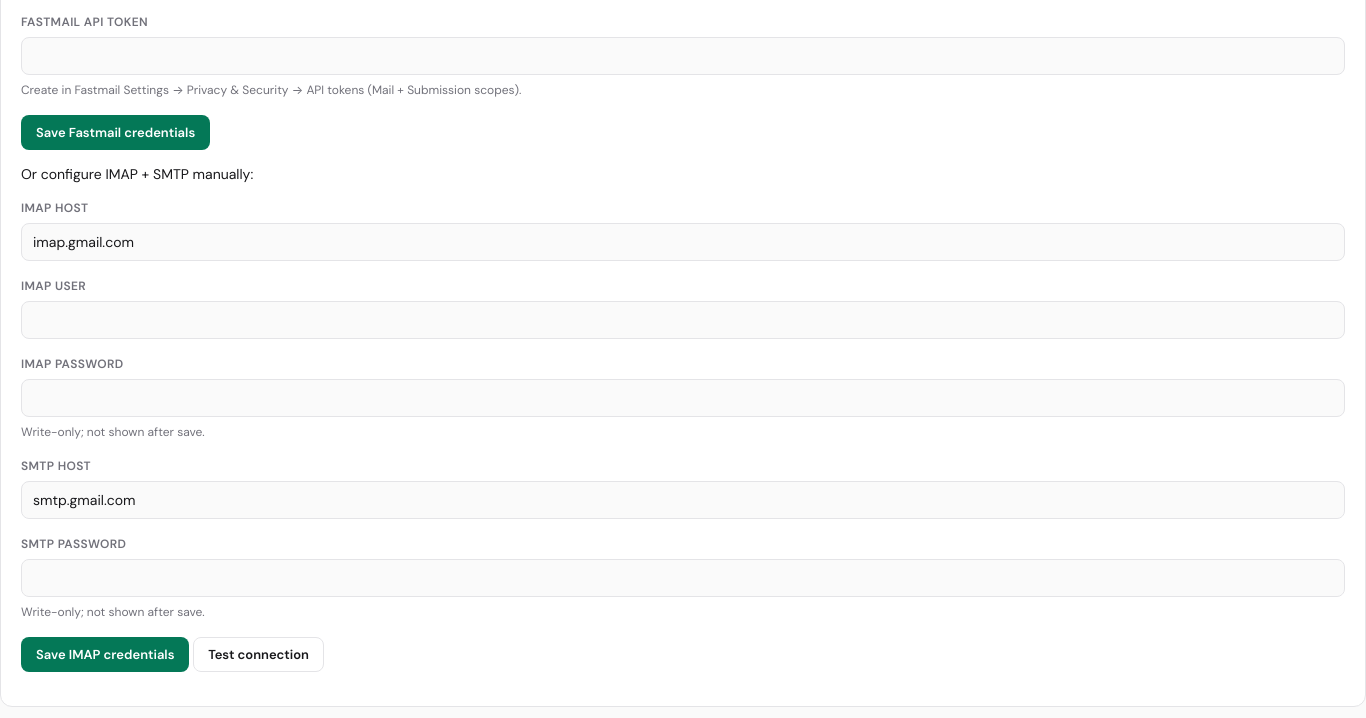
SettingsInboxCard › shows an error when saving IMAP fails
The width and height of the screenshot is (1366, 718).
(page scrolled)
Click the button "Save IMAP credentials".
click(105, 654)  # box x1=21 y1=636 x2=190 y2=672
(page scrolled)
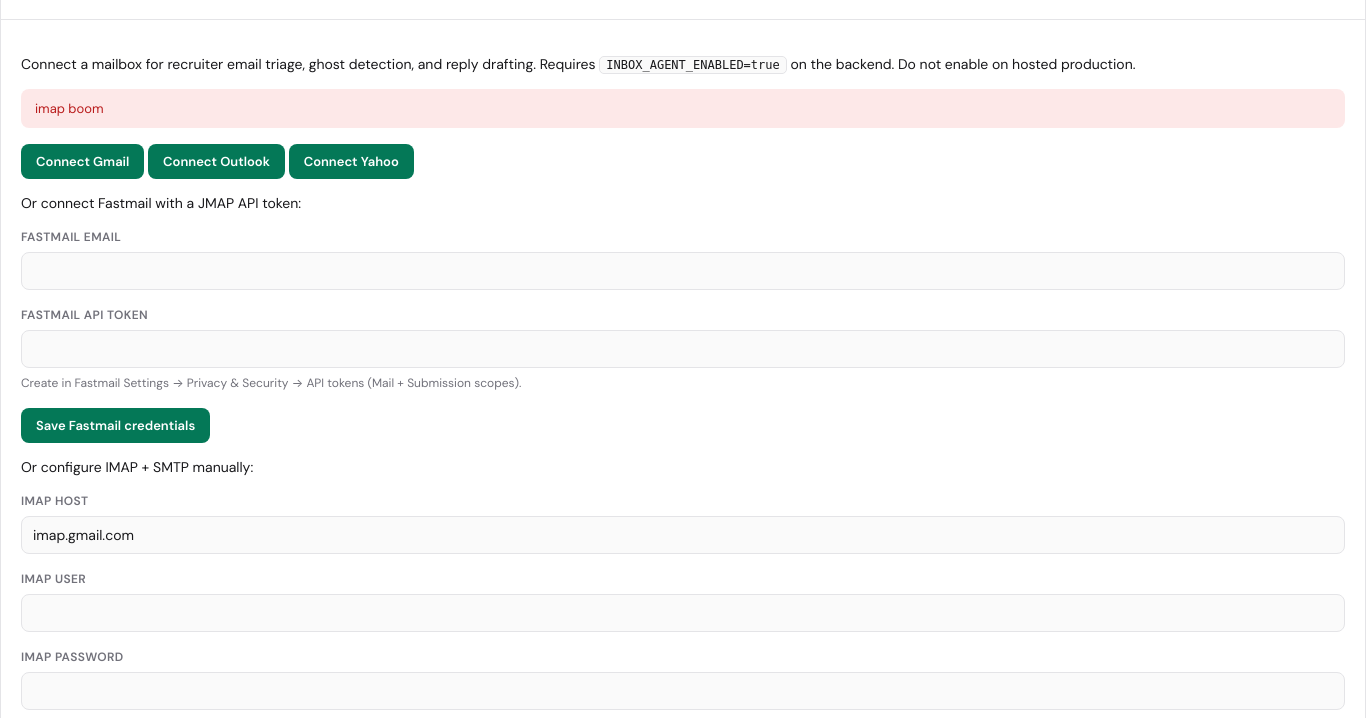
Result: the text "imap boom" is shown at x1=21 y1=88 x2=1345 y2=128
